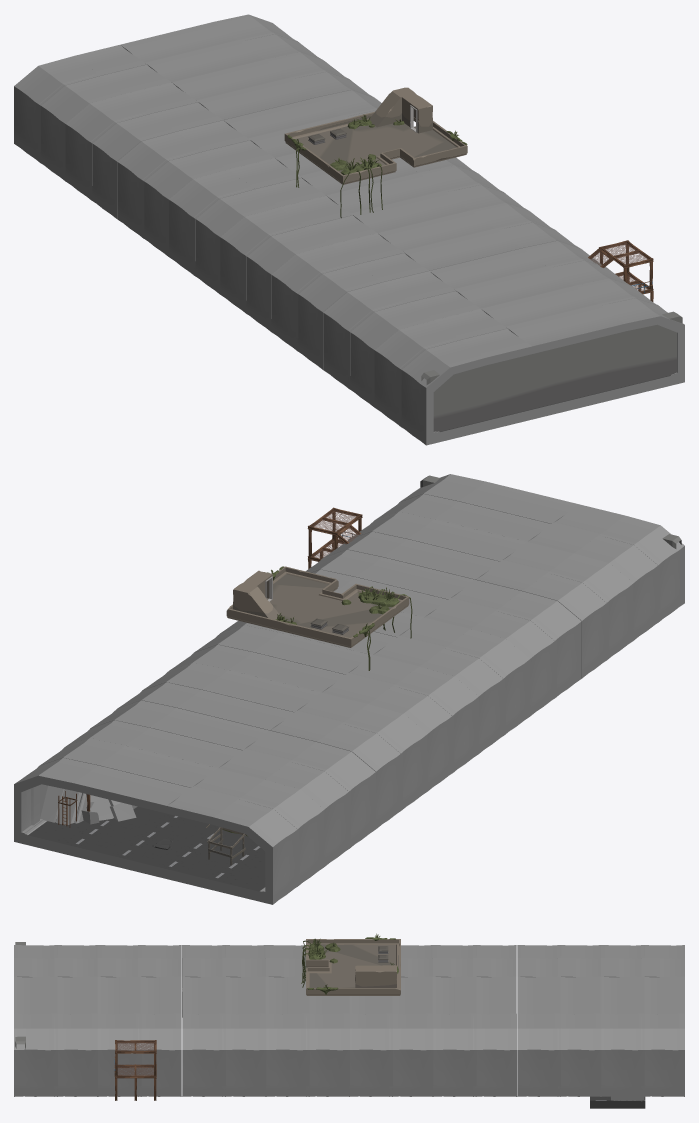
File: test_tunnel (1).glb
3 views of the same model, one above another, from view 1: azimuth 30°, elevation 25°; view 2: azimuth 150°, elevation 25°; view 3: azimuth 270°, elevation 25° (orthographic). The views are drawn at different scales.
Parts seen in each view (by area): view 1: SM_Env_StormCanal_Flat_01, SM_Bld_HighRise_Medium_01_Interior_Roof_01, SM_Env_Motorway_Bridge_Edge_02__1__15, SM_Env_Motorway_Bridge_Edge_02__1__4, SM_Env_Motorway_Bridge_Edge_02__1__14, SM_Env_Motorway_Bridge_Edge_02__1__2, SM_Env_Motorway_Bridge_Edge_02__1__12, SM_Env_Motorway_Bridge_Edge_02__1__10, SM_Env_Motorway_Bridge_Edge_02__1_, SM_Env_Motorway_Bridge_Edge_02__1__8, SM_Env_Motorway_Bridge_Edge_02__1__6, SM_Env_Motorway_Bridge_Edge_02__1__11 (+65 smaller); view 2: SM_Bld_HighRise_Medium_01_Interior_Roof_01, SM_Env_Motorway_Bridge_Edge_02__1_, SM_Env_Motorway_Bridge_Edge_02, SM_Env_Motorway_Bridge_Edge_02__1__1, SM_Env_Motorway_Bridge_Edge_02__1__12, SM_Env_Motorway_Bridge_Edge_02__1__6, SM_Env_Motorway_Bridge_Edge_02__1__4, SM_Env_Motorway_Bridge_Edge_02__1__14, SM_Env_Motorway_Bridge_Edge_02__1__10, SM_Env_Motorway_Bridge_Edge_02__1__2, SM_Env_Motorway_Bridge_Edge_02__1__8, SM_Env_Motorway_Bridge_Edge_02__1__9 (+65 smaller); view 3: SM_Bld_HighRise_Medium_01_Interior_Roof_01, SM_Env_Motorway_Bridge_Edge_02_12, SM_Env_Motorway_Bridge_Edge_02_4, SM_Env_Motorway_Bridge_Edge_02_2, SM_Env_Motorway_Bridge_Edge_02_6, SM_Env_Motorway_Bridge_Edge_02_10, SM_Env_Motorway_Bridge_Edge_02_8, SM_Env_Motorway_Bridge_Edge_02_16, SM_Env_Motorway_Bridge_Edge_02_11, SM_Env_Motorway_Bridge_Edge_02_3, SM_Env_Motorway_Bridge_Edge_02_7, SM_Env_Motorway_Bridge_Edge_02 (+66 smaller).
Part boxes in pixels (x1=…): SM_Env_StormCanal_Flat_01: x1=421, y1=311, x2=682, y2=431; SM_Bld_HighRise_Medium_01_Interior_Roof_01: x1=284, y1=87, x2=467, y2=184; SM_Env_Motorway_Bridge_Edge_02__1__15: x1=399, y1=339, x2=485, y2=445; SM_Env_Motorway_Bridge_Edge_02__1__4: x1=117, y1=131, x2=203, y2=238; SM_Env_Motorway_Bridge_Edge_02__1__14: x1=374, y1=320, x2=460, y2=427; SM_Env_Motorway_Bridge_Edge_02__1__2: x1=65, y1=94, x2=151, y2=200; SM_Env_Motorway_Bridge_Edge_02__1__12: x1=323, y1=282, x2=409, y2=389; SM_Env_Motorway_Bridge_Edge_02__1__10: x1=271, y1=244, x2=357, y2=350; SM_Env_Motorway_Bridge_Edge_02__1_: x1=14, y1=56, x2=100, y2=163; SM_Env_Motorway_Bridge_Edge_02__1__8: x1=220, y1=207, x2=305, y2=313; SM_Env_Motorway_Bridge_Edge_02__1__6: x1=168, y1=169, x2=254, y2=274; SM_Env_Motorway_Bridge_Edge_02__1__11: x1=296, y1=263, x2=382, y2=369; SM_Bld_HighRise_Medium_01_Interior_Roof_01: x1=226, y1=566, x2=409, y2=647; SM_Env_Motorway_Bridge_Edge_02__1_: x1=213, y1=797, x2=299, y2=904; SM_Env_Motorway_Bridge_Edge_02: x1=14, y1=756, x2=99, y2=856; SM_Env_Motorway_Bridge_Edge_02__1__1: x1=238, y1=779, x2=324, y2=884; SM_Env_Motorway_Bridge_Edge_02__1__12: x1=522, y1=571, x2=608, y2=678; SM_Env_Motorway_Bridge_Edge_02__1__6: x1=368, y1=684, x2=454, y2=791; SM_Env_Motorway_Bridge_Edge_02__1__4: x1=316, y1=722, x2=402, y2=828; SM_Env_Motorway_Bridge_Edge_02__1__14: x1=574, y1=533, x2=660, y2=640; SM_Env_Motorway_Bridge_Edge_02__1__10: x1=471, y1=609, x2=556, y2=715; SM_Env_Motorway_Bridge_Edge_02__1__2: x1=265, y1=760, x2=350, y2=866; SM_Env_Motorway_Bridge_Edge_02__1__8: x1=420, y1=647, x2=505, y2=753; SM_Env_Motorway_Bridge_Edge_02__1__9: x1=446, y1=629, x2=530, y2=733; SM_Bld_HighRise_Medium_01_Interior_Roof_01: x1=306, y1=939, x2=400, y2=995; SM_Env_Motorway_Bridge_Edge_02_12: x1=182, y1=1013, x2=225, y2=1096; SM_Env_Motorway_Bridge_Edge_02_4: x1=517, y1=1013, x2=560, y2=1096; SM_Env_Motorway_Bridge_Edge_02_2: x1=601, y1=1013, x2=644, y2=1096; SM_Env_Motorway_Bridge_Edge_02_6: x1=433, y1=1013, x2=476, y2=1096; SM_Env_Motorway_Bridge_Edge_02_10: x1=266, y1=1013, x2=309, y2=1096; SM_Env_Motorway_Bridge_Edge_02_8: x1=349, y1=1013, x2=392, y2=1096; SM_Env_Motorway_Bridge_Edge_02_16: x1=14, y1=1013, x2=57, y2=1096; SM_Env_Motorway_Bridge_Edge_02_11: x1=222, y1=1013, x2=266, y2=1096; SM_Env_Motorway_Bridge_Edge_02_3: x1=557, y1=1013, x2=601, y2=1096; SM_Env_Motorway_Bridge_Edge_02_7: x1=389, y1=1013, x2=433, y2=1096; SM_Env_Motorway_Bridge_Edge_02: x1=641, y1=1013, x2=684, y2=1096.
Bounding box in the file's own units: 31.11 × 15.56 × 76.66.
4 materials, 4 textured.
